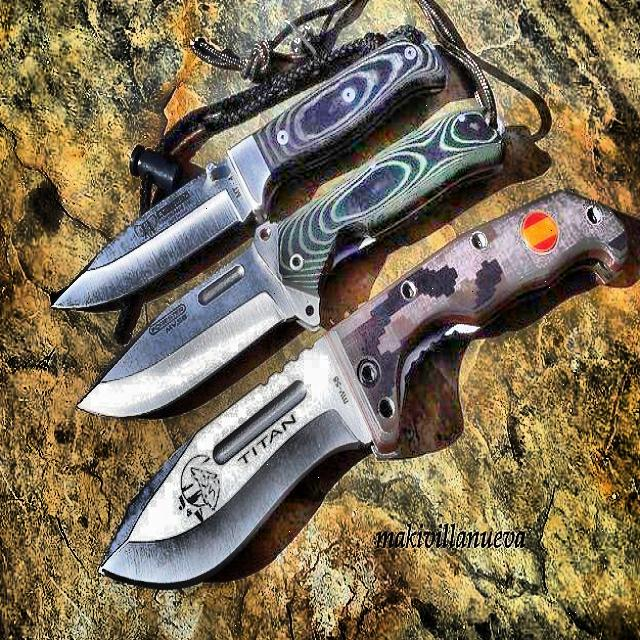knife: (103, 195, 625, 593), (78, 100, 500, 419), (53, 30, 446, 310)
